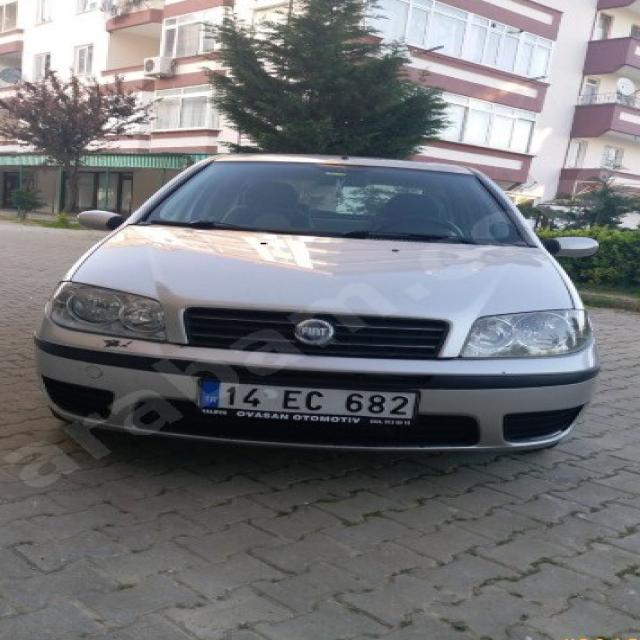license_plate: (198, 381, 417, 420)
